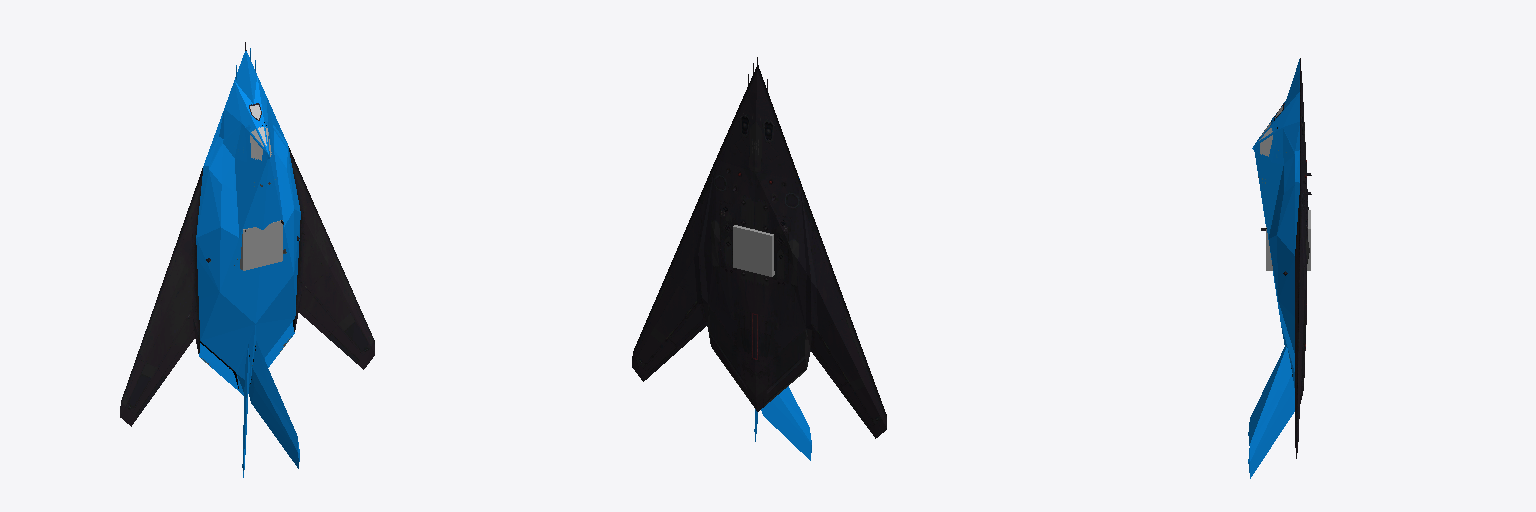
3 views of the same model, side by side, from view 1: azimuth 30°, elevation 25°; view 2: azimuth 150°, elevation 25°; view 3: azimuth 270°, elevation 25° (orthographic).
Visible parts, largest first — view 1: LOD0, RudderR01, Cube, FlapR01, FlapL01, Canopy01, EngineL01, AileronR01; view 2: LOD0, Cube, RudderL01, FlapR01, FlapL01; view 3: LOD0, RudderR01.
Part boxes in pixels (left/top/right/bottom): LOD0: left=120, top=42, right=374, bottom=426; RudderR01: left=251, top=374, right=299, bottom=468; Cube: left=240, top=220, right=282, bottom=270; FlapR01: left=299, top=290, right=336, bottom=337; FlapL01: left=158, top=318, right=194, bottom=376; Canopy01: left=245, top=119, right=272, bottom=172; EngineL01: left=199, top=341, right=238, bottom=390; AileronR01: left=328, top=325, right=362, bottom=363; LOD0: left=632, top=57, right=886, bottom=438; Cube: left=733, top=225, right=774, bottom=276; RudderL01: left=763, top=386, right=811, bottom=460; FlapR01: left=669, top=303, right=706, bottom=349; FlapL01: left=811, top=331, right=847, bottom=389; LOD0: left=1257, top=58, right=1311, bottom=458; RudderR01: left=1248, top=381, right=1294, bottom=478.
Size of the model in its own units: 13 by 20.39 by 2.8.
Materials: 5 (1 with a texture image).